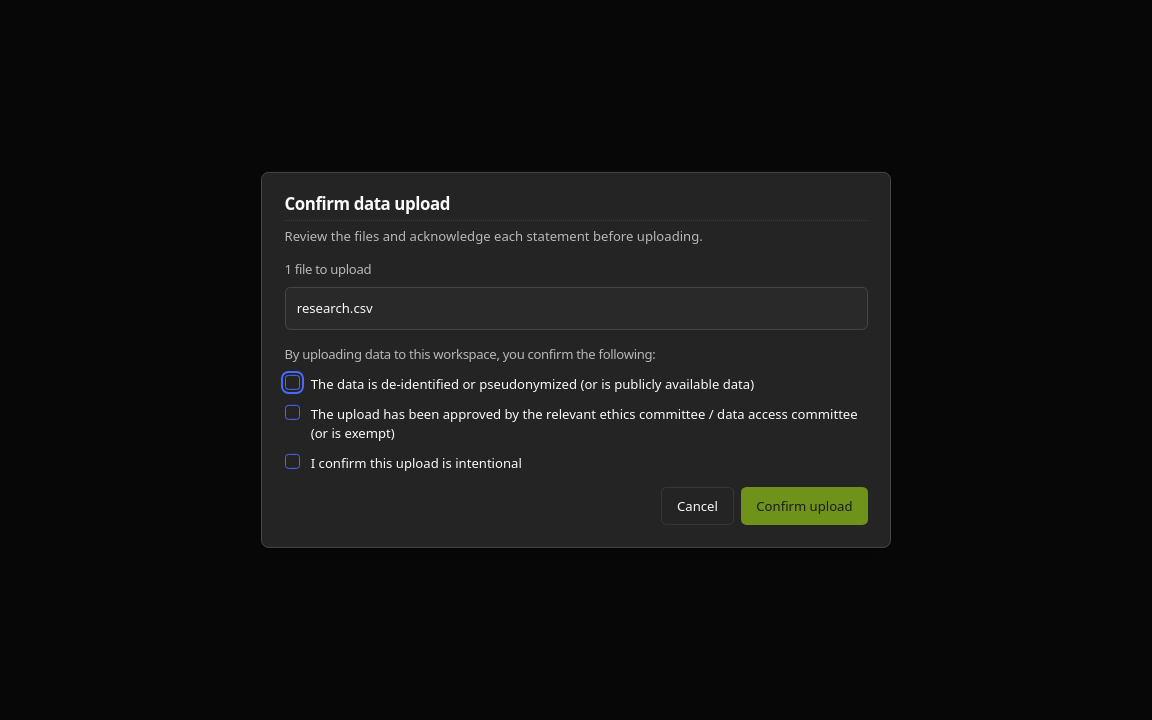
Test: UploadComplianceDialog › requires every acknowledgment before confirming
The image size is (1152, 720).
Later steps or results of the test are not shown.
Expected: the button "Confirm upload" is disabled, [741,487,868,525]
Click the checkbox named "The data is de-identified or pseudonymized (or is publicly a" at (292, 382), box [284,375,300,390]
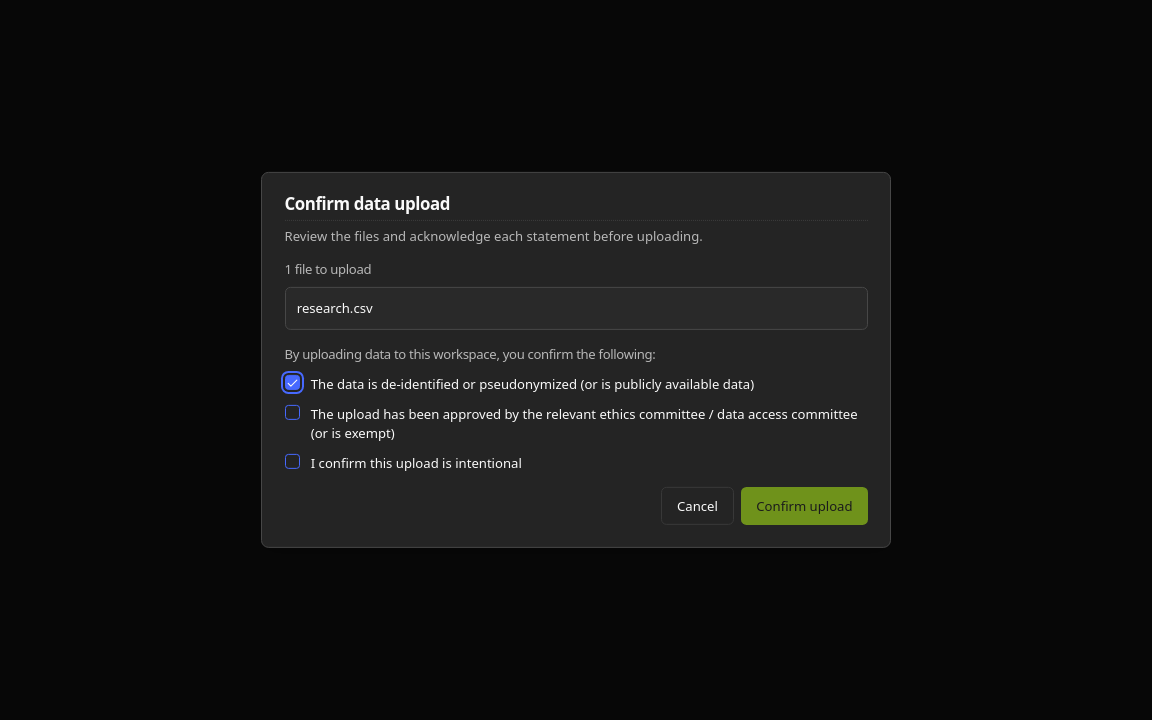
Click the checkbox named "The upload has been approved by the relevant ethics committe" at (292, 412), box [284,405,300,420]
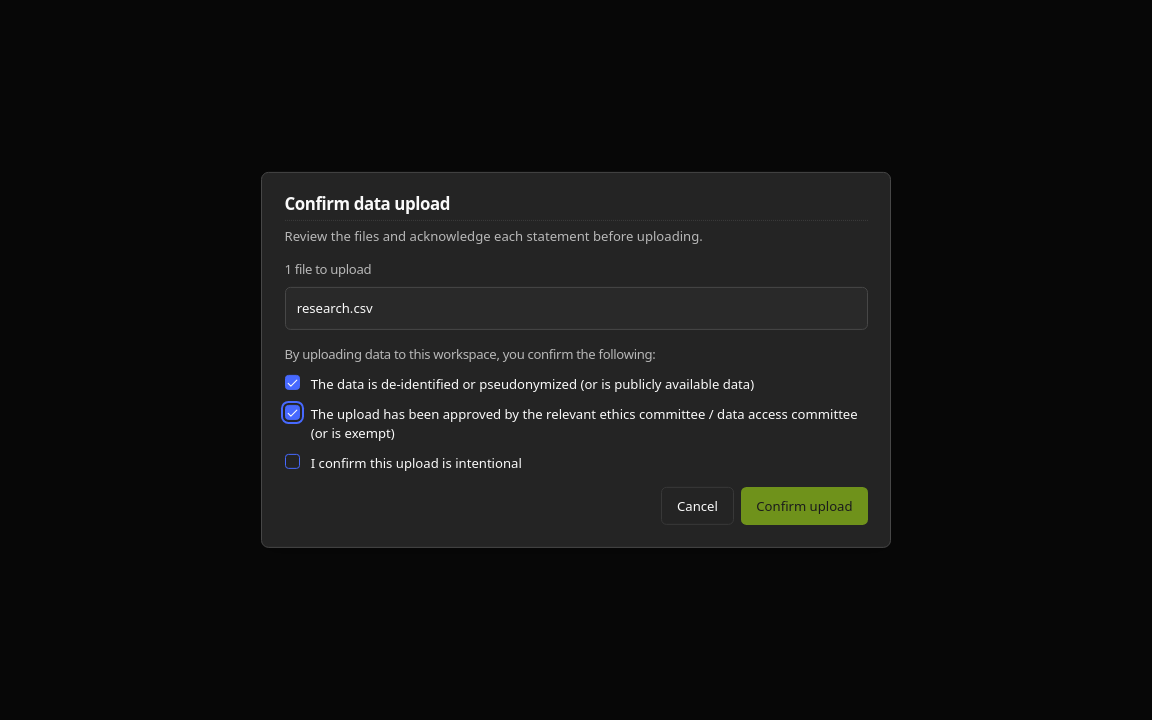
Click the checkbox named "I confirm this upload is intentional" at (292, 461), box [284,453,300,468]
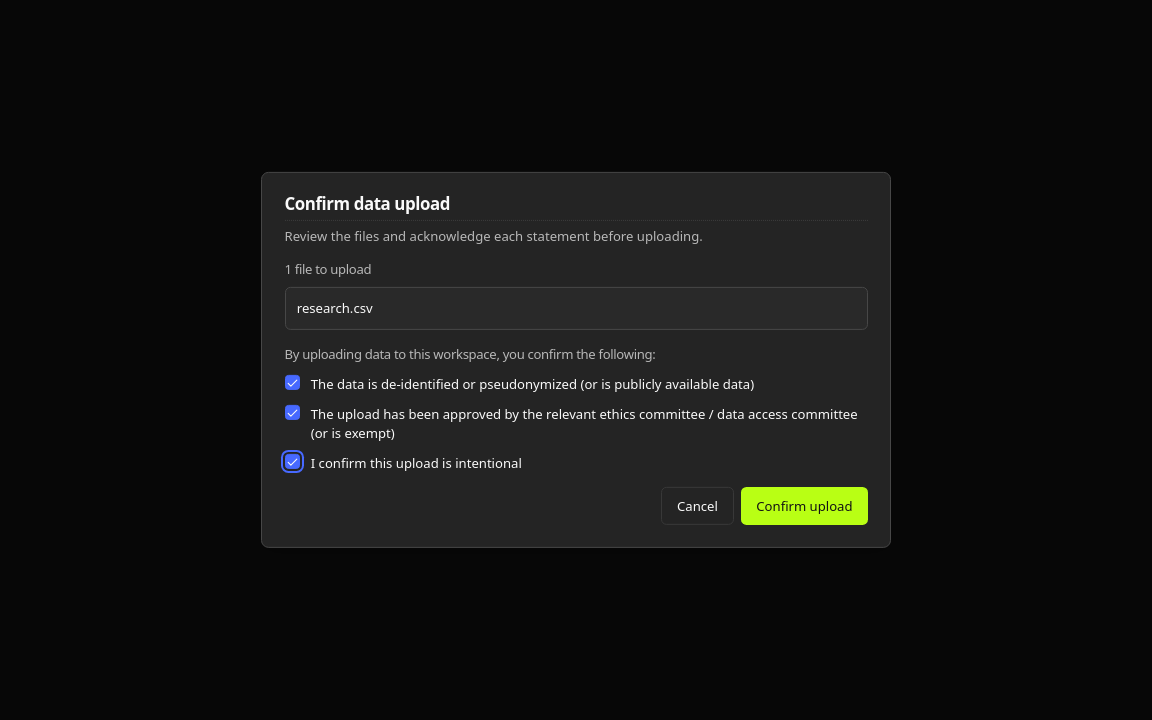
Expected: the button "Confirm upload" is enabled, [741,487,868,525]
